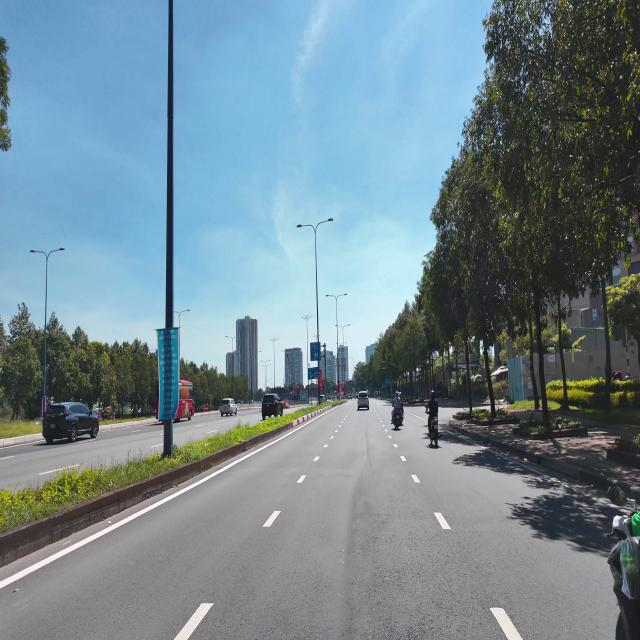car: (43, 402, 99, 443), (262, 394, 283, 419), (220, 398, 237, 415), (357, 391, 369, 410)
motorcycle: (608, 516, 639, 639), (429, 417, 439, 446), (392, 408, 402, 429)
